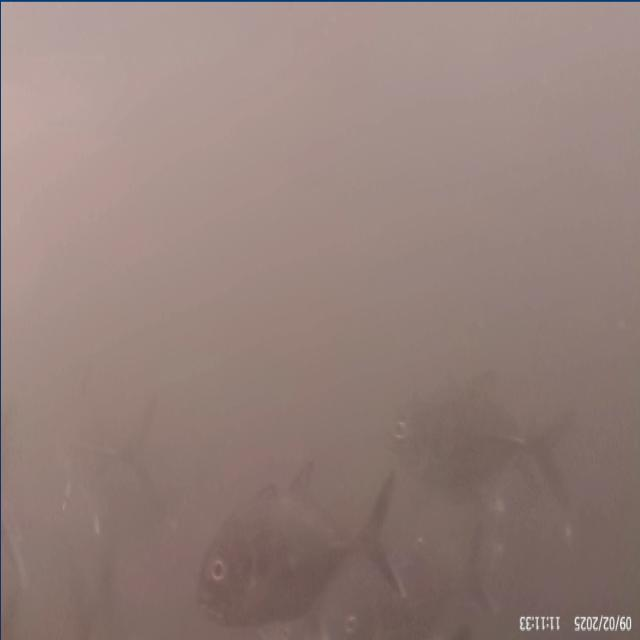ikan: (181, 405, 420, 619)
